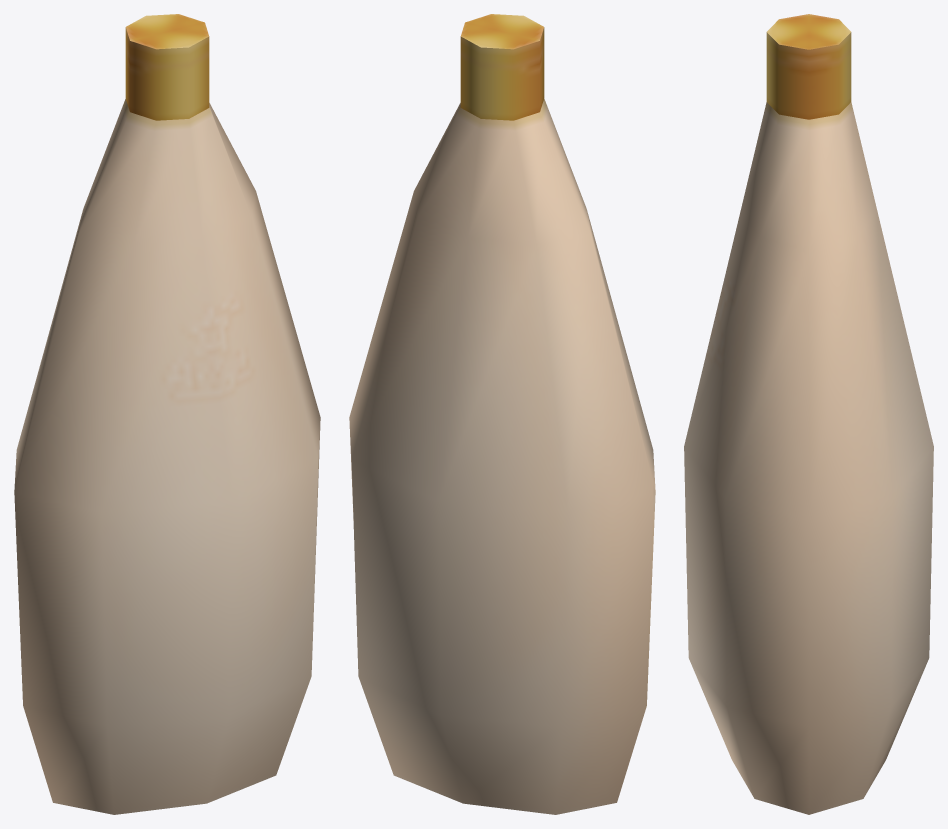
The model's file is jsf_Mayonnaise_02.fbx.
The picture shows the model from 3 angles, left to right: view 1: azimuth 30°, elevation 25°; view 2: azimuth 150°, elevation 25°; view 3: azimuth 270°, elevation 25°; orthographic projection. The views are drawn at different scales.
Parts seen in each view (by area): view 1: jsf_Mayonnaise_02; view 2: jsf_Mayonnaise_02; view 3: jsf_Mayonnaise_02.
Part boxes in pixels (x1,y1,x2,y2): jsf_Mayonnaise_02: [14, 14, 320, 814]; jsf_Mayonnaise_02: [349, 14, 655, 814]; jsf_Mayonnaise_02: [684, 14, 933, 814].
Bounding box in the file's own units: 8.17 × 18.95 × 5.89.
